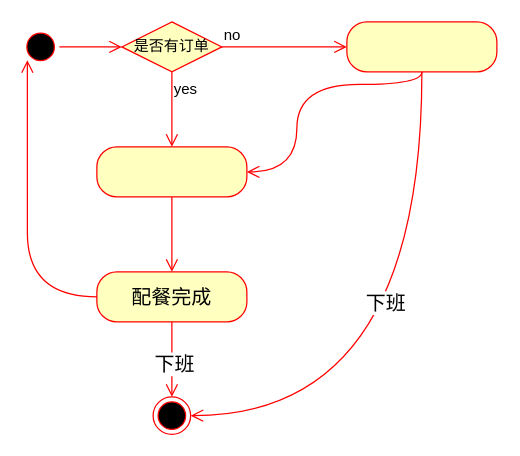
Image size: 520x456. Some labels were removed from this diagram. The shapes that lost their labels are listed below. From the top down, each one's box as (x1, y1, x2, y2) in pixels, then its label:
(346, 21, 497, 72): 等待订单
(96, 146, 247, 197): 配餐
